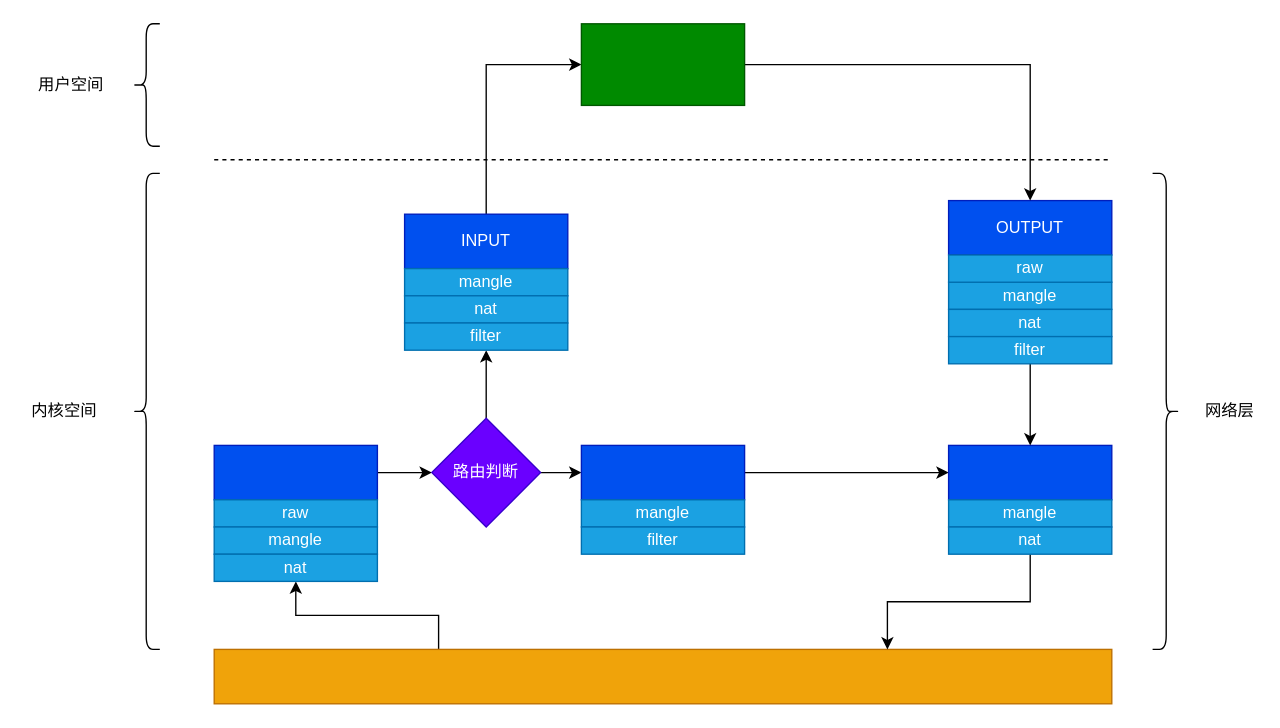
Image size: 1280x728. Some labels were removed from this diagram. The shapes that lost their labels are listed below. From the top down, each one's centre as x and y in pixels, then its label:
the point at 662,63: Application
the point at 295,472: PREROUTING
the point at 662,472: FORWARD
the point at 1029,472: POSTROUTING
the point at 662,676: 网卡
